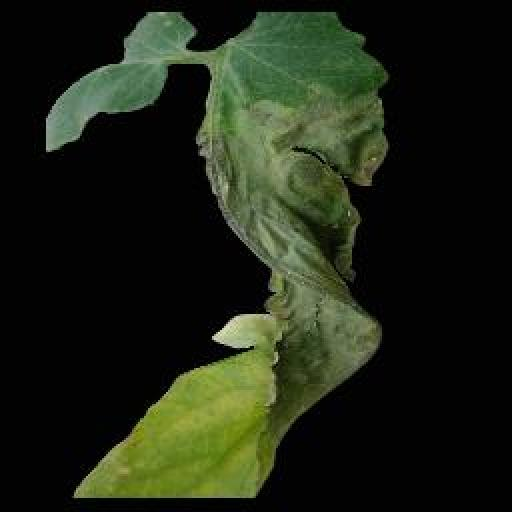disease_tomato: (50, 8, 394, 496)
